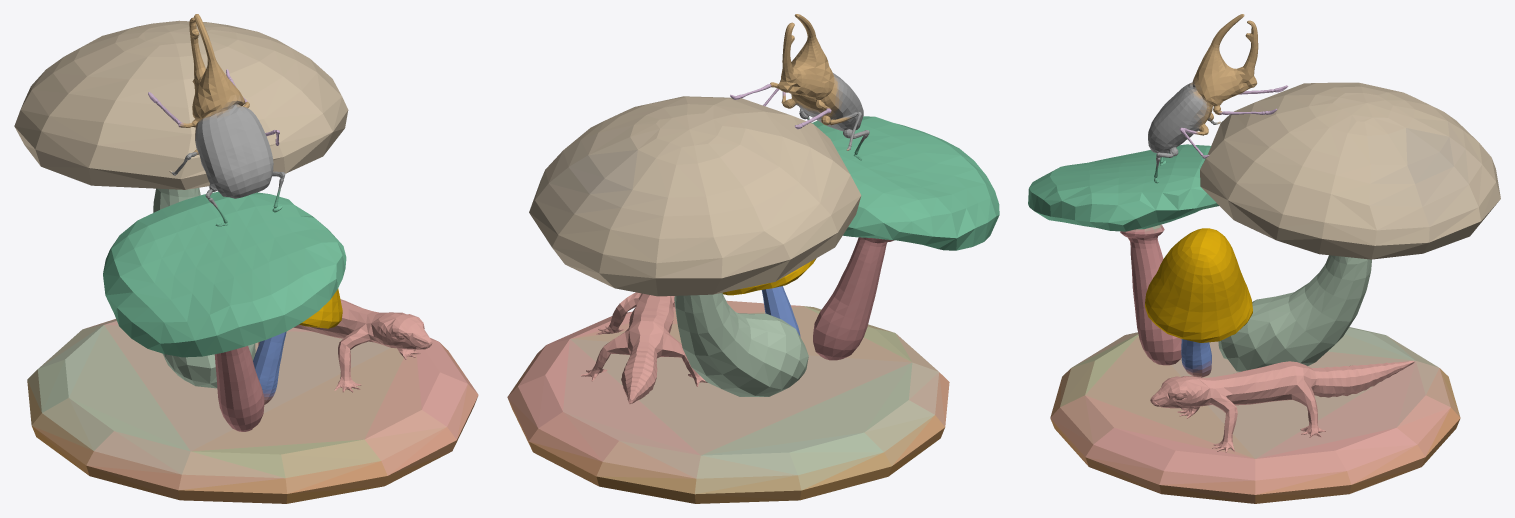
3 renders of one model, left to right at view 1: azimuth 30°, elevation 25°; view 2: azimuth 150°, elevation 25°; view 3: azimuth 270°, elevation 25°, orthographic. The views are drawn at different scales.
Parts seen in each view (by area): view 1: world; view 2: world; view 3: world.
Boxes of the visible parts, <box> form: world: <box>14,14,478,503</box>; world: <box>507,14,999,503</box>; world: <box>1028,14,1500,503</box>.
Size of the model in its own units: 0.8615 by 0.8804 by 1.
